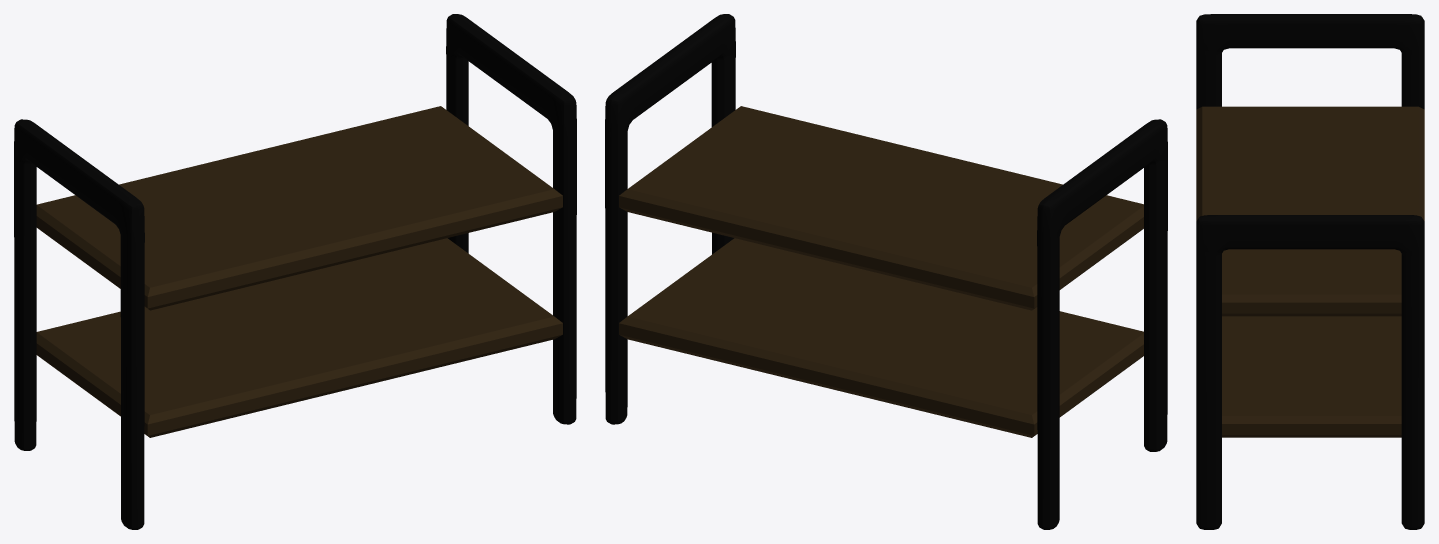
Rendered from Shoe_Rack.fbx.
3 renders of one model, left to right at view 1: azimuth 30°, elevation 25°; view 2: azimuth 150°, elevation 25°; view 3: azimuth 270°, elevation 25°, orthographic. The views are drawn at different scales.
Visible parts, largest first — view 1: pCube6; view 2: pCube6; view 3: pCube6.
Boxes of the visible parts, left/top/right/bottom form: pCube6: left=14, top=14, right=576, bottom=529; pCube6: left=605, top=14, right=1167, bottom=529; pCube6: left=1196, top=14, right=1424, bottom=529.
Size of the model in its own units: 0.2162 by 0.1509 by 0.1.
